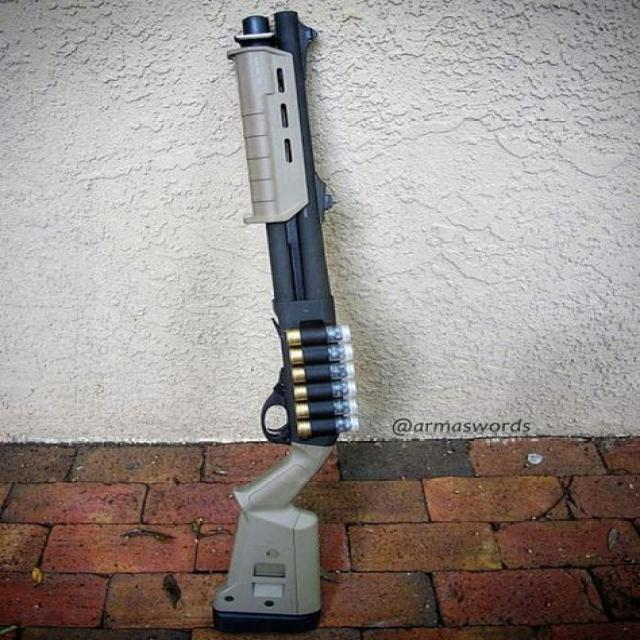shotgun: (194, 10, 370, 636)
